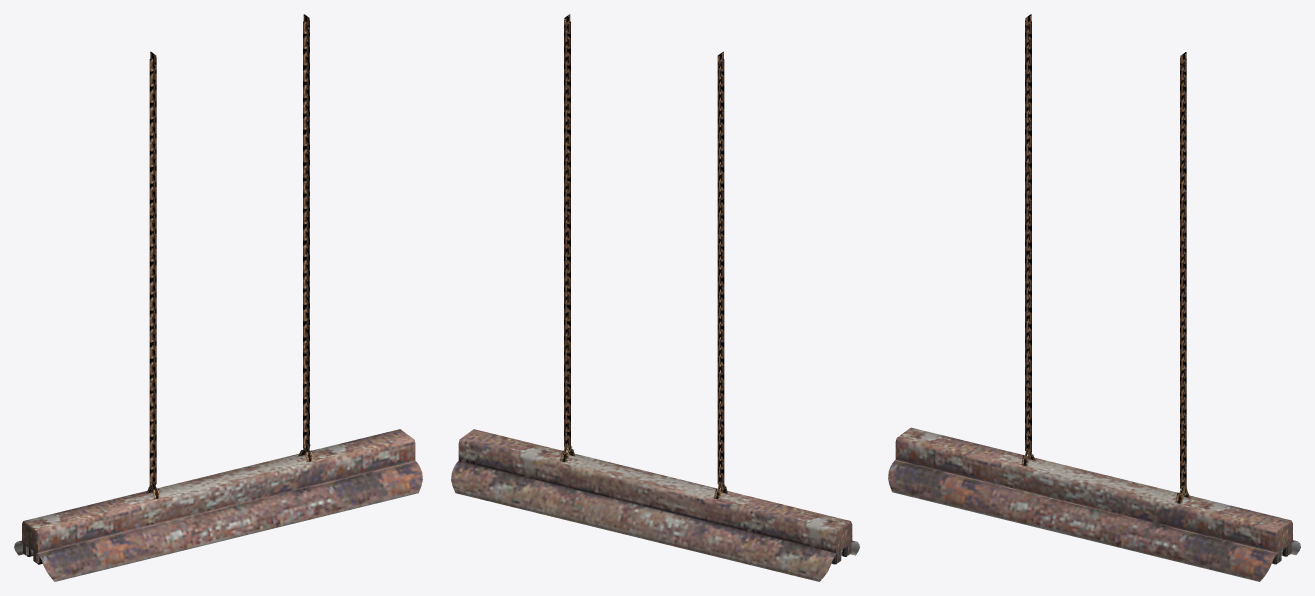
File: Light.fbx
3 views of the same model, side by side, from view 1: azimuth 30°, elevation 25°; view 2: azimuth 150°, elevation 25°; view 3: azimuth 330°, elevation 25° (orthographic).
Parts seen in each view (by area): view 1: LODGroup_1_MainMesh_1_Submesh_3; view 2: LODGroup_1_MainMesh_1_Submesh_3; view 3: LODGroup_1_MainMesh_1_Submesh_3.
Part boxes in pixels (left/top/right/bottom): LODGroup_1_MainMesh_1_Submesh_3: left=14, top=14, right=422, bottom=581; LODGroup_1_MainMesh_1_Submesh_3: left=451, top=14, right=859, bottom=581; LODGroup_1_MainMesh_1_Submesh_3: left=888, top=14, right=1300, bottom=581.
Bounding box in the file's own units: 259 × 318 × 42.99.
